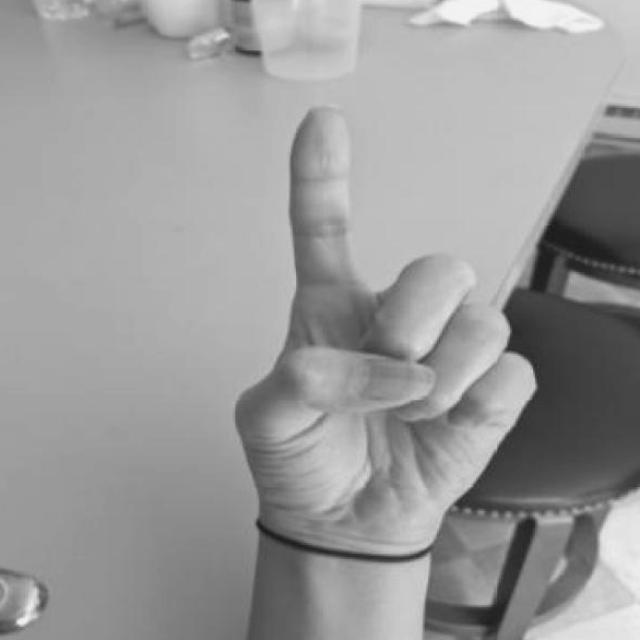D: (212, 94, 546, 582)
